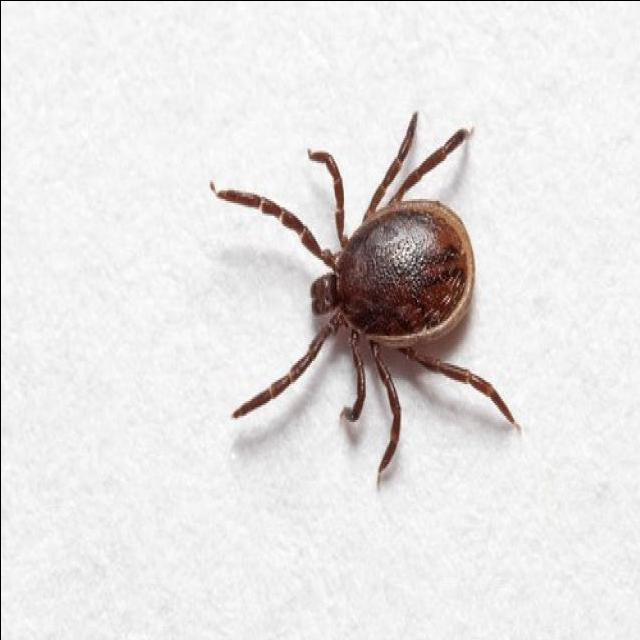Ixodes Ricinus-M: (209, 109, 522, 484)
